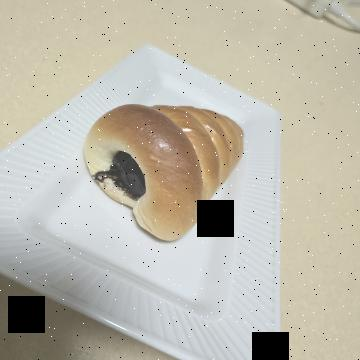cream horn: (76, 110, 263, 292)
